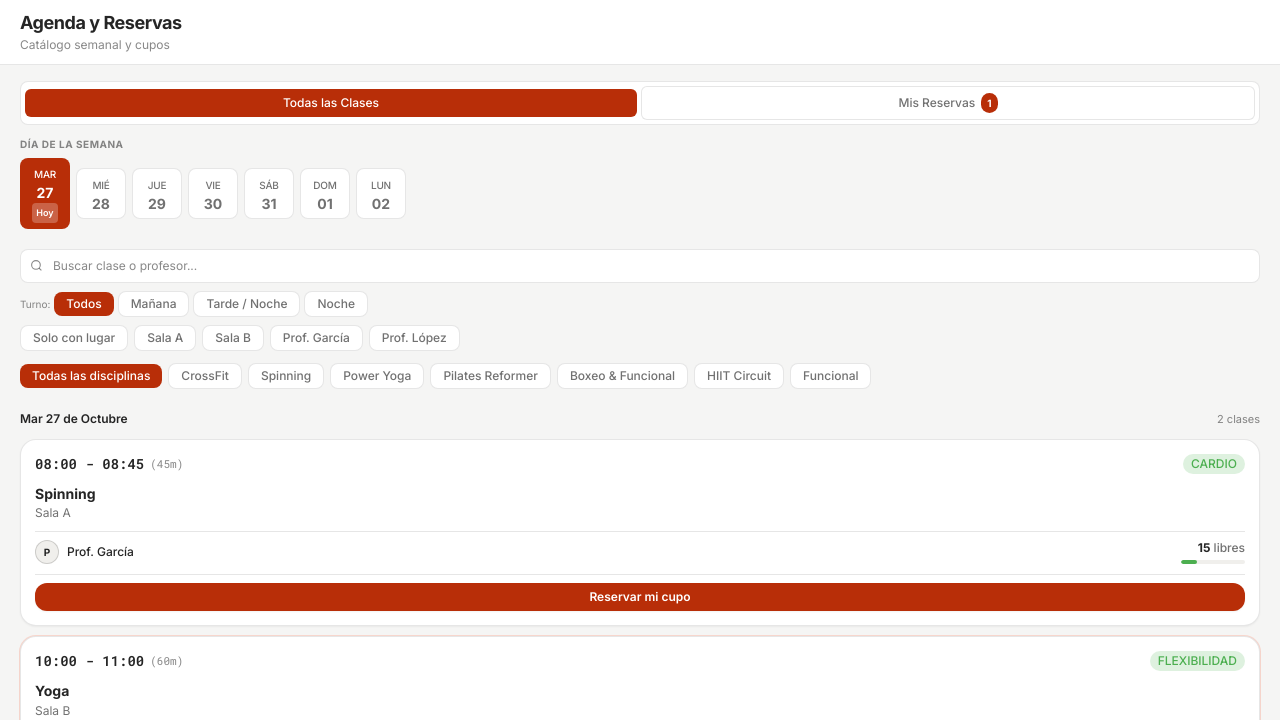
Test: ClasesPage › clears search query when clear button is clicked
Type "Yoga" into the field with placeholder "Buscar clase o profesor...". click: (640, 266)
box: [20,249,1260,283]
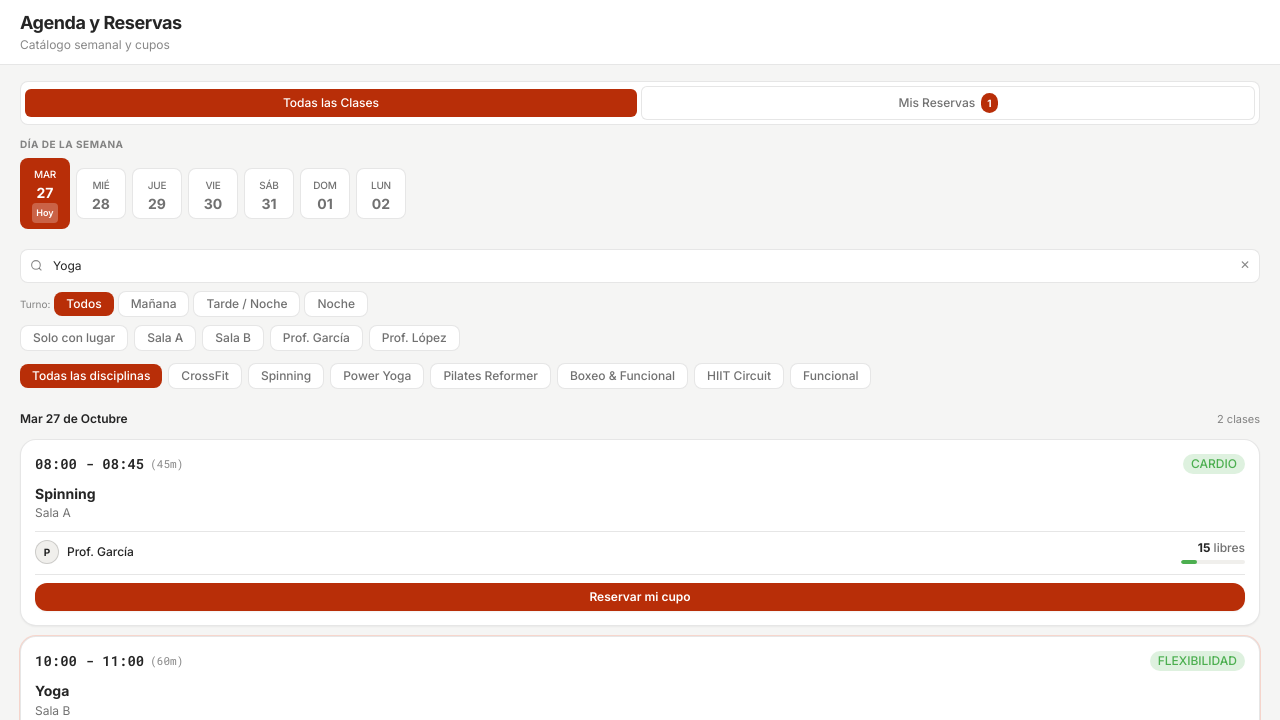
Click the button named "Limpiar búsqueda". click: click(1245, 265)
box: [1240,257,1250,273]
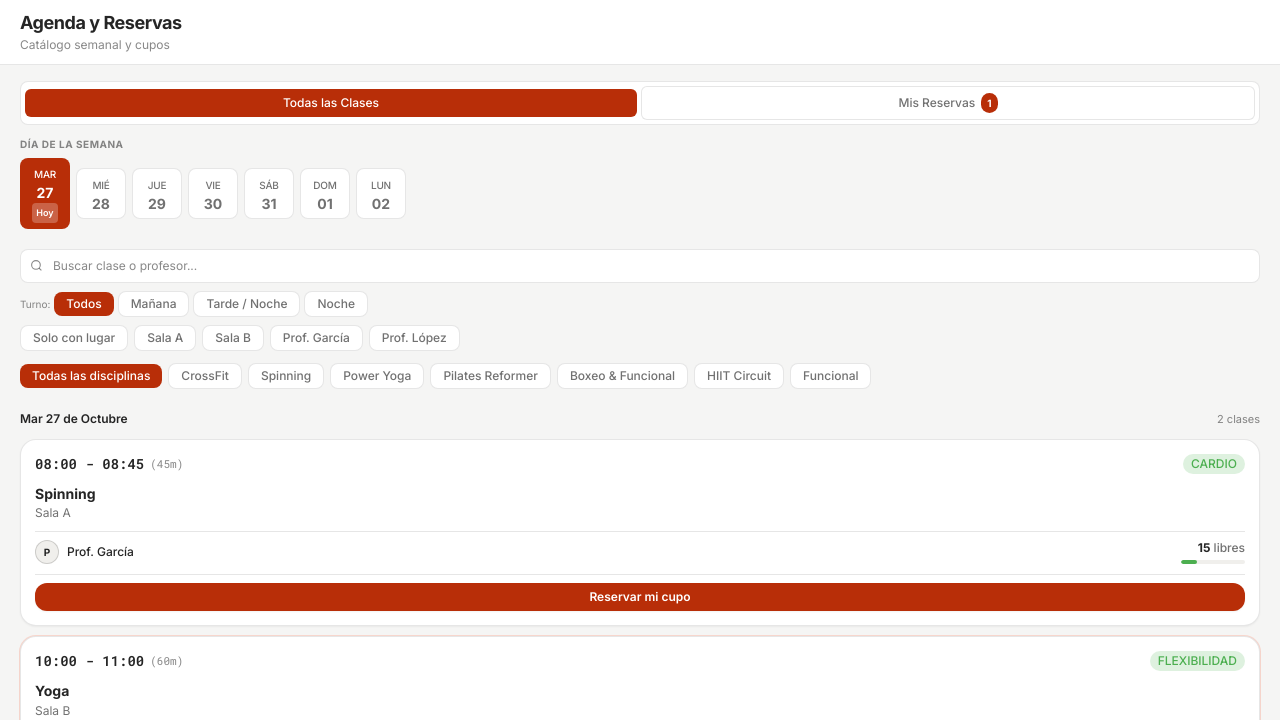
Check: the field with placeholder "Buscar clase o profesor..." is empty, box [20,249,1260,283]
